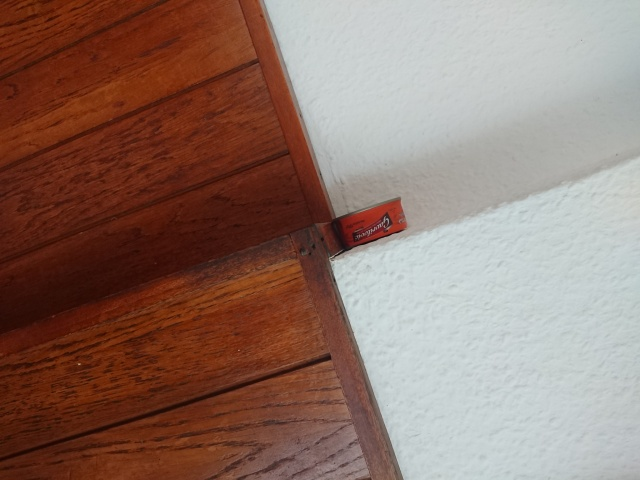Gavrilovic Pork Liver Pate 100g: (328, 194, 411, 253)
